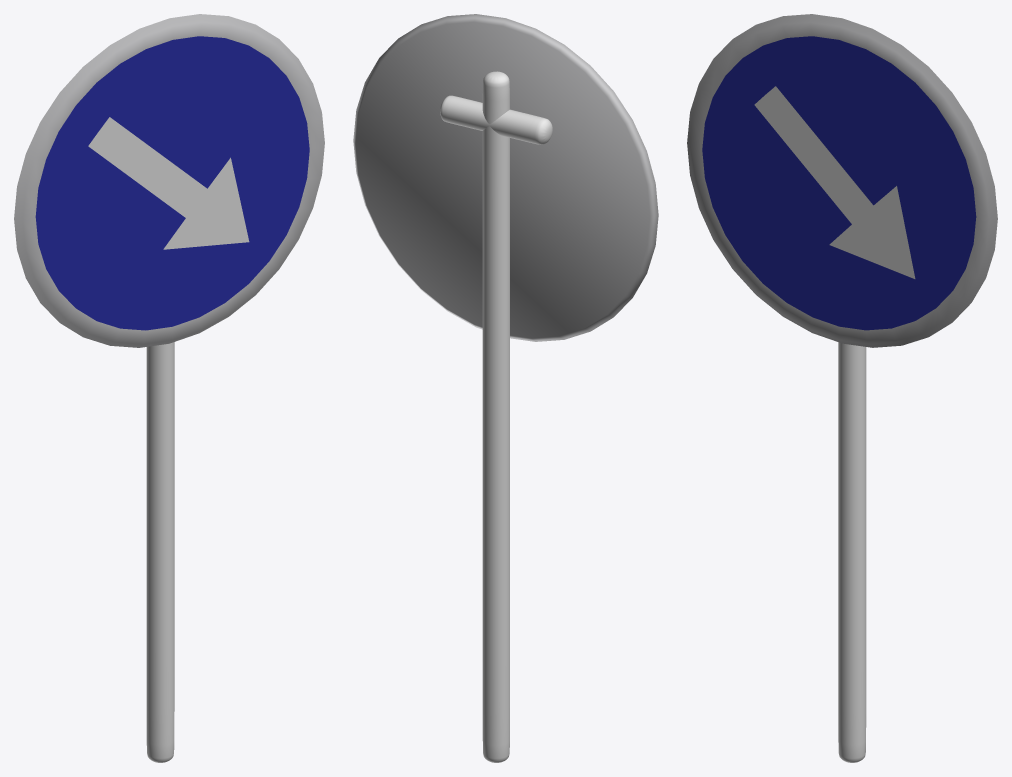
The model's file is keep_Way_Sign.fbx.
The picture shows the model from 3 angles, left to right: view 1: azimuth 30°, elevation 25°; view 2: azimuth 150°, elevation 25°; view 3: azimuth 330°, elevation 25°; orthographic projection.
Visible parts, largest first — view 1: Sign_blue, Pole.001, Plane; view 2: Sign_blue, Pole.001; view 3: Sign_blue, Pole.001, Plane.
Boxes of the visible parts, x1,y1,x2,y2 form: Sign_blue: [14, 14, 324, 347]; Pole.001: [146, 342, 174, 762]; Plane: [88, 117, 249, 249]; Sign_blue: [353, 14, 658, 341]; Pole.001: [440, 71, 552, 762]; Sign_blue: [687, 14, 997, 347]; Pole.001: [838, 342, 866, 762]; Plane: [754, 86, 915, 278].
Bounding box in the file's own units: 121 × 278 × 13.31.
